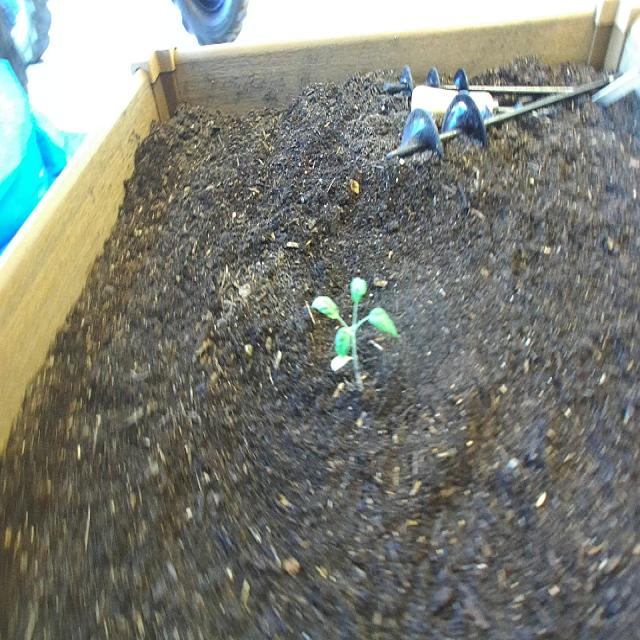Healthy: (310, 270, 401, 396)
